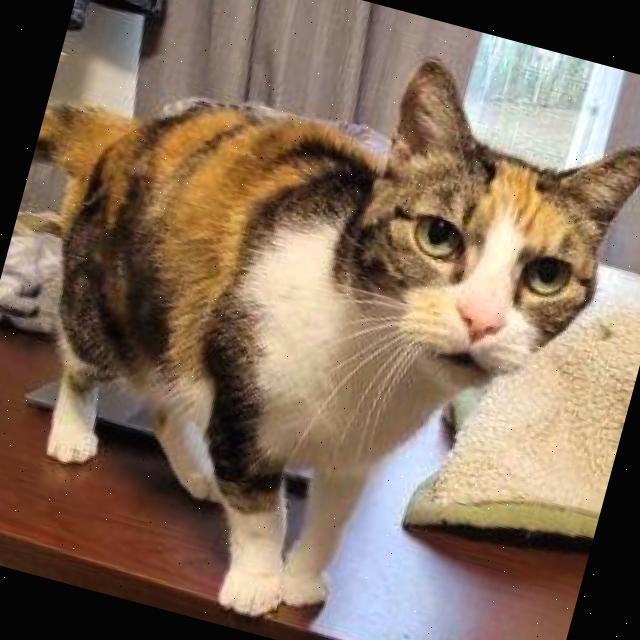calico_cat: (270, 25, 640, 457)
